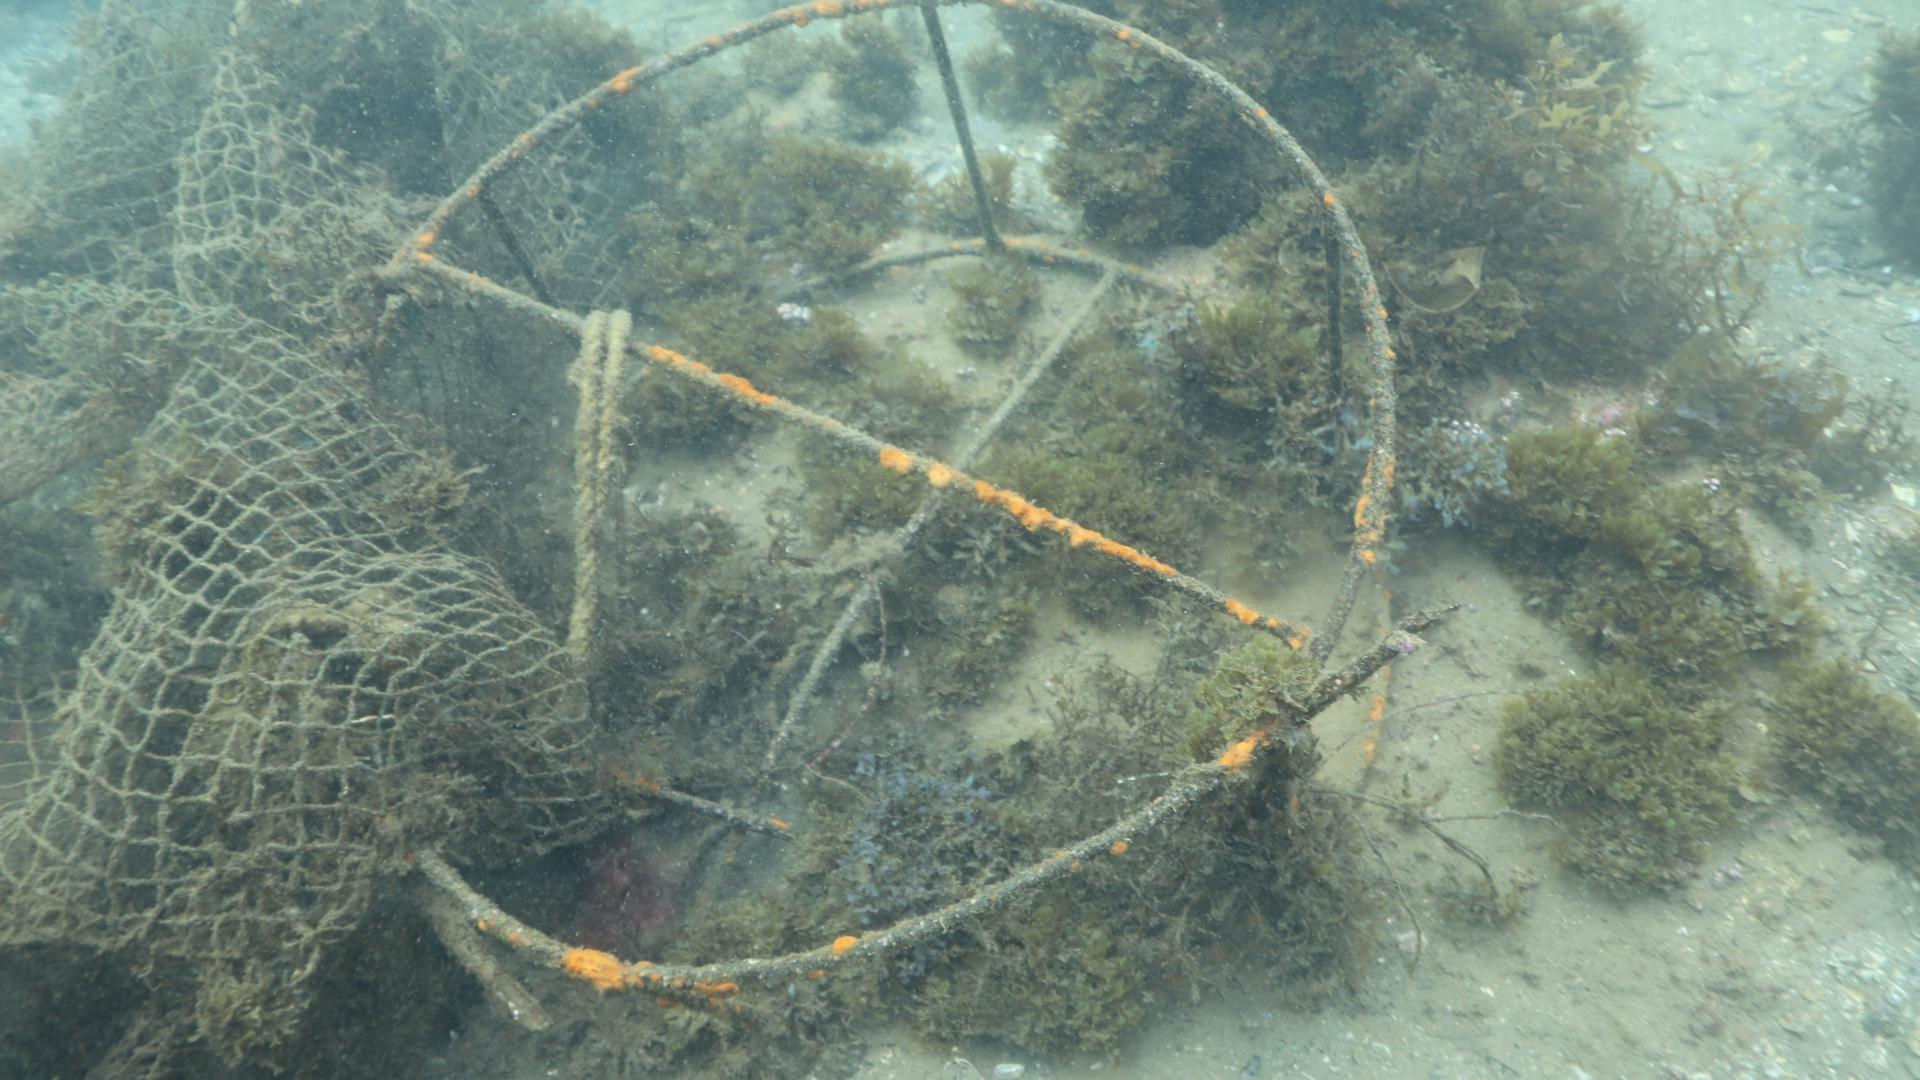bundle of ropes: (563, 306, 632, 666)
fish net: (0, 0, 625, 963)
